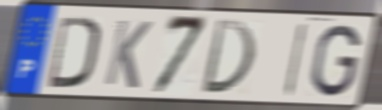7: (149, 13, 210, 98)
D: (198, 18, 257, 98), (45, 13, 102, 90)
G: (309, 22, 363, 99)
I: (282, 21, 311, 98)
K: (102, 16, 155, 91)
